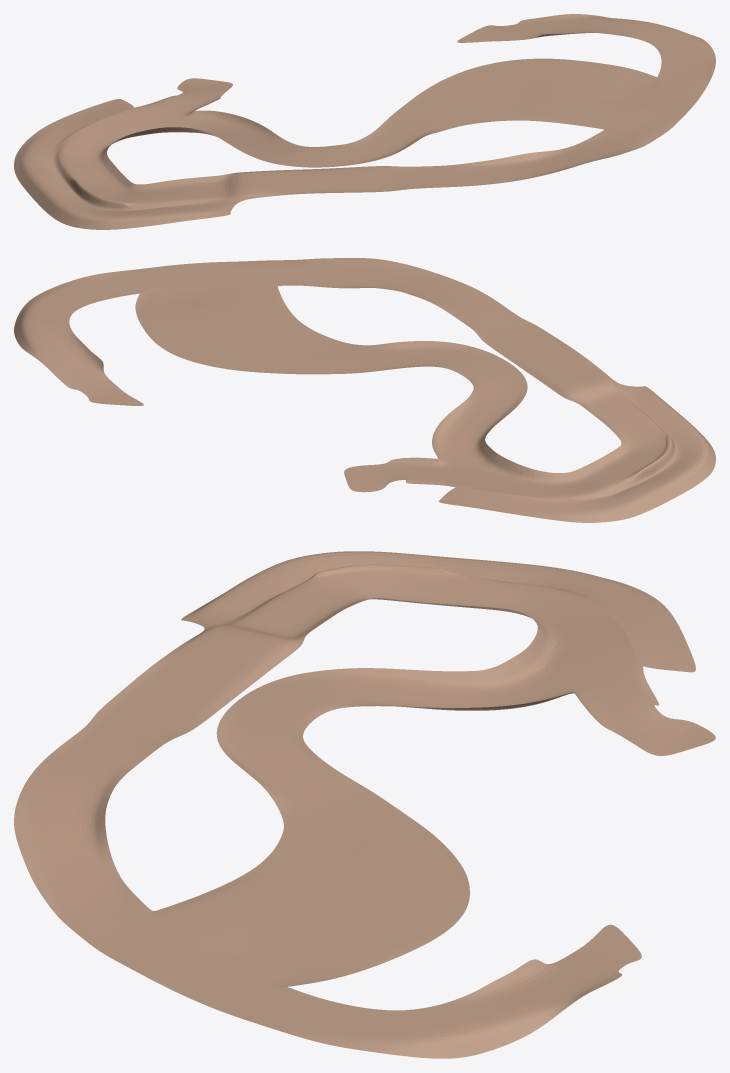
Rendered from terraintest.dae.
The picture shows the model from 3 angles, top to bottom: view 1: azimuth 30°, elevation 25°; view 2: azimuth 150°, elevation 25°; view 3: azimuth 270°, elevation 25°; orthographic projection. The views are drawn at different scales.
Visible parts, largest first — view 1: Plane_021; view 2: Plane_021; view 3: Plane_021.
Boxes of the visible parts, x1,y1,x2,y2 form: Plane_021: (14,14,715,229); Plane_021: (14,258,715,522); Plane_021: (14,551,715,1058).
Size of the model in its own units: 227 by 128 by 11.05.
